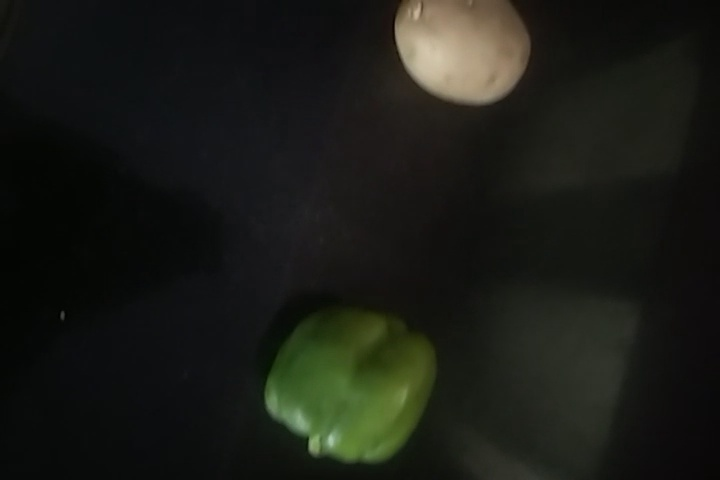potato: (250, 307, 439, 468), (404, 1, 529, 98)
